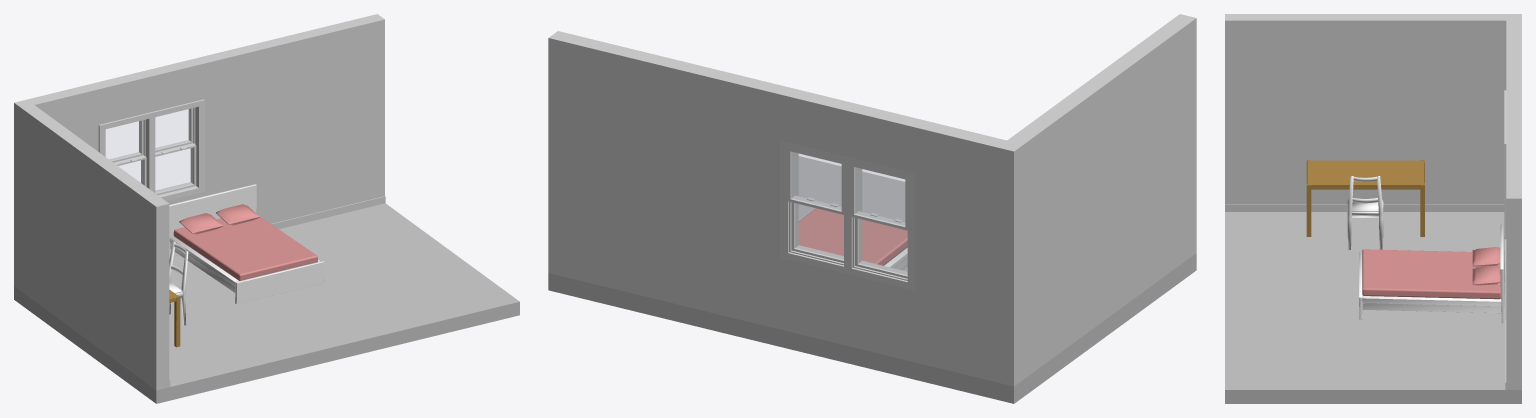
The model's file is L12_W18_furniture2_circulation1.glb.
3 renders of one model, left to right at view 1: azimuth 30°, elevation 25°; view 2: azimuth 150°, elevation 25°; view 3: azimuth 270°, elevation 25°, orthographic. The views are drawn at different scales.
Bounding box in the file's own units: 224 × 116 × 152.
